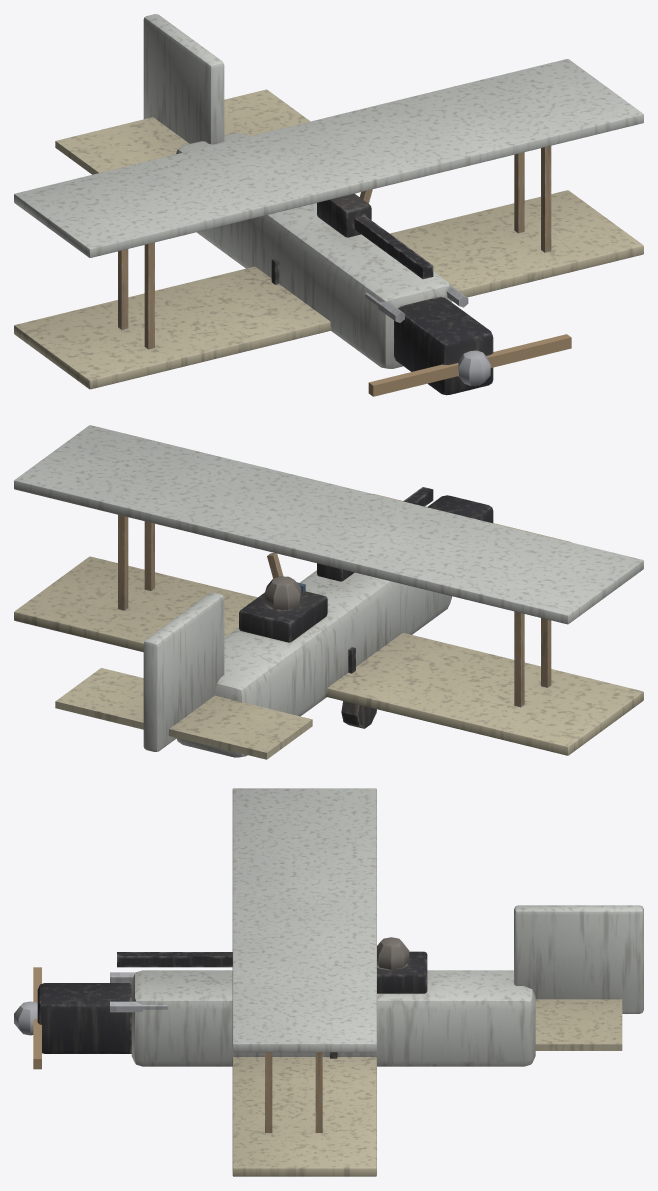
Rendered from glider.glb.
3 renders of one model, top to bottom at view 1: azimuth 30°, elevation 25°; view 2: azimuth 150°, elevation 25°; view 3: azimuth 270°, elevation 25°, orthographic. The views are drawn at different scales.
Parts seen in each view (by area): view 1: Hull, Prop; view 2: Hull; view 3: Hull, Prop.
Part boxes in pixels (<box>): Hull: <box>14,14,643,395</box>; Prop: <box>368,334,571,396</box>; Hull: <box>14,425,643,759</box>; Hull: <box>37,788,643,1176</box>; Prop: <box>14,967,41,1069</box>.
Size of the model in its own units: 4.2 by 1.38 by 4.36.
Materials: 10 (8 with a texture image).
